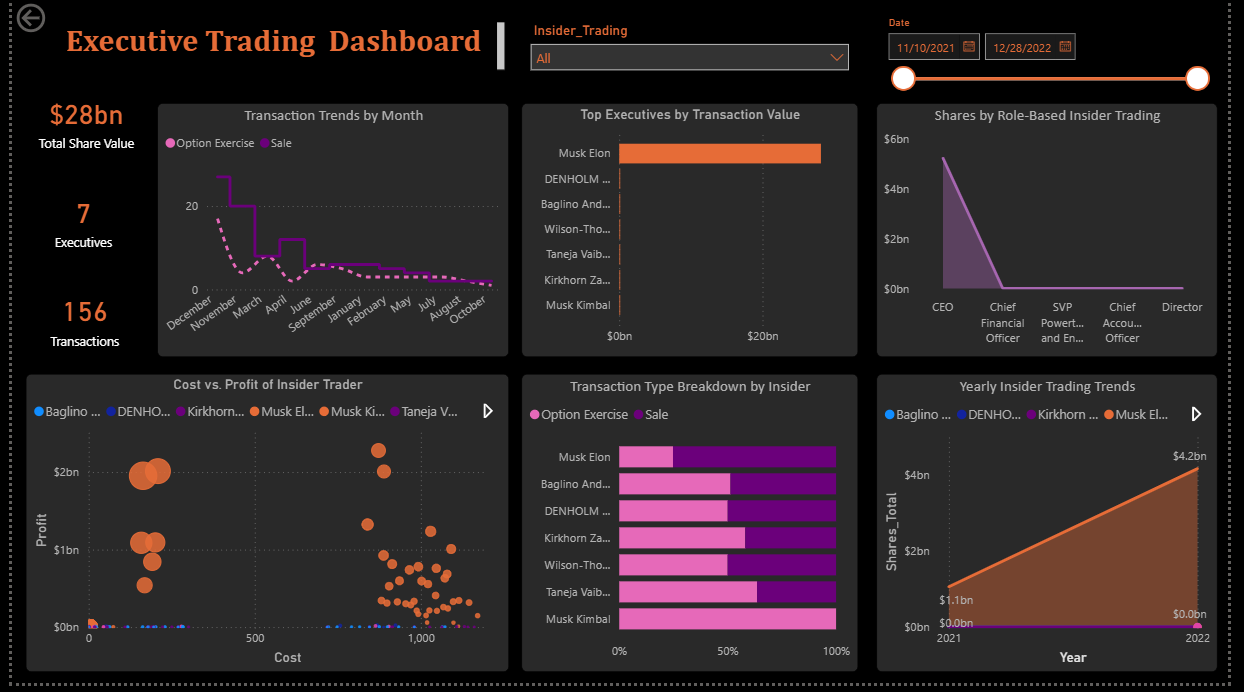

The page's visual inventory and layout, read from the dashboard file:
{"tool":"powerbi","page":{"name":"Overview","canvas":[1280,720],"ordinal":0},"visuals":[{"type":"lineChart","title":"Transaction Trends by Month","fields":{"Category":["TSLA Export.Month"],"Y":["CountNonNull(TSLA Export.Cost)"],"Series":["TSLA Export.Transaction"]},"box":[152.9,109.5,370.2,267.2],"z":0},{"type":"hundredPercentStackedBarChart","title":"Transaction Type Breakdown by Insider","fields":{"Category":["TSLA Export.Insider_Trading"],"Series":["TSLA Export.Transaction"],"Y":["Sum(TSLA Export.Shares)"]},"box":[536.1,394.4,354.2,313.9],"z":1000},{"type":"barChart","title":"Top Executives by Transaction Value","fields":{"Category":["TSLA Export.Insider_Trading"],"Y":["Sum(TSLA Export.Value)"]},"box":[536.1,109.5,354.2,267.2],"z":2000},{"type":"scatterChart","title":"Cost vs. Profit of Insider Trader","fields":{"X":["TSLA Export.Cost"],"Y":["TSLA Export.Profit"],"Size":["Sum(TSLA Export.Shares)"],"Series":["TSLA Export.Insider_Trading"]},"box":[14.5,394.4,508.7,313.9],"z":3000},{"type":"areaChart","title":"Shares by Role-Based Insider Trading ","fields":{"Y":["Sum(TSLA Export.Shares_Total)"],"Category":["TSLA Export.Relationship"]},"box":[909.5,109.5,359,267.2],"z":4000},{"type":"areaChart","title":"Yearly Insider Trading Trends","fields":{"Category":["TSLA Export.Date.Variation.Date Hierarchy.Year"],"Y":["Sum(TSLA Export.Shares_Total)"],"Series":["TSLA Export.Insider_Trading"]},"box":[909.5,394.4,359,313.9],"z":5000},{"type":"textbox","box":[51.5,19.3,471.7,62.8],"z":6000},{"type":"actionButton","box":[0,0,100,40],"z":7000},{"type":"slicer","fields":{"Values":["TSLA Export.Insider_Trading"]},"box":[536.1,19.3,354.2,72.4],"z":8000},{"type":"card","fields":{"Values":["Sum(TSLA Export.Value)"]},"box":[3.2,69.2,149.7,117.5],"z":9000},{"type":"card","fields":{"Values":["Count(TSLA Export.Insider_Trading)"]},"box":[0,186.7,149.7,90.1],"z":10000},{"type":"card","fields":{"Values":["CountNonNull(TSLA Export.Transaction)"]},"box":[1.6,276.9,149.7,117.5],"z":11000},{"type":"slicer","fields":{"Values":["TSLA Export.Date"]},"box":[909.5,12.9,359,86.9],"z":12000}]}

Visuals, with their boxes in screenshot pixels (x1, y1, x2, y2), scaled from the page's 1280x720 canvas onto the 1244x692 screenshot:
"Transaction Trends by Month" lineChart: bbox(149, 105, 508, 362)
"Transaction Type Breakdown by Insider" hundredPercentStackedBarChart: bbox(521, 379, 865, 681)
"Top Executives by Transaction Value" barChart: bbox(521, 105, 865, 362)
"Cost vs. Profit of Insider Trader" scatterChart: bbox(14, 379, 508, 681)
"Shares by Role-Based Insider Trading " areaChart: bbox(884, 105, 1233, 362)
"Yearly Insider Trading Trends" areaChart: bbox(884, 379, 1233, 681)
textbox: bbox(50, 19, 508, 79)
actionButton: bbox(0, 0, 97, 38)
slicer - TSLA Export.Insider_Trading: bbox(521, 19, 865, 88)
card - Sum(TSLA Export.Value): bbox(3, 67, 149, 179)
card - Count(TSLA Export.Insider_Trading): bbox(0, 179, 145, 266)
card - CountNonNull(TSLA Export.Transaction): bbox(2, 266, 147, 379)
slicer - TSLA Export.Date: bbox(884, 12, 1233, 96)
